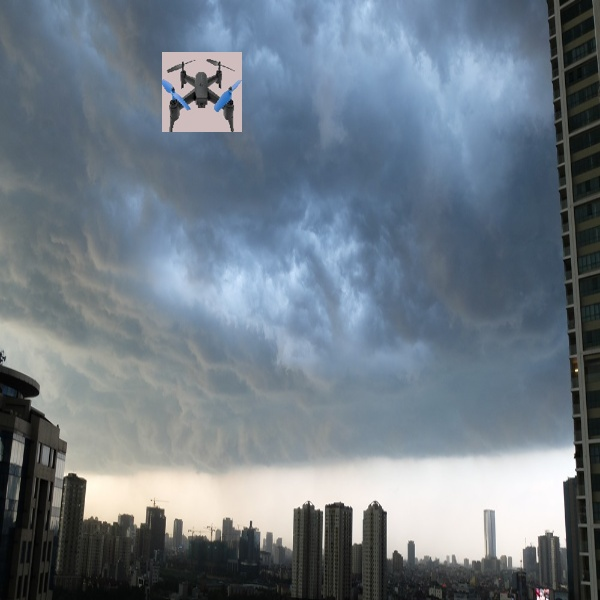drone: (162, 49, 241, 133)
